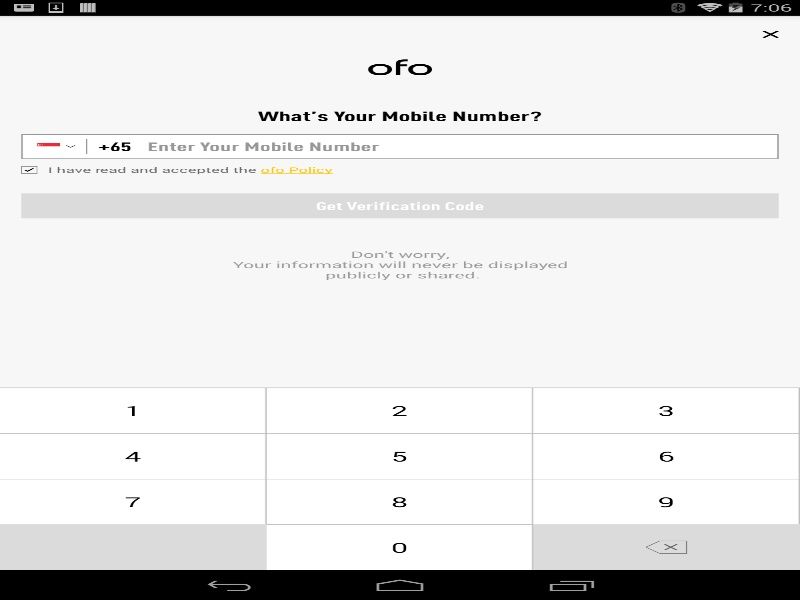Input: (147, 134, 762, 159)
